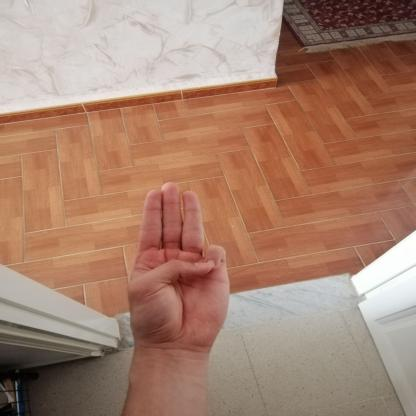THA: (110, 172, 244, 361)
